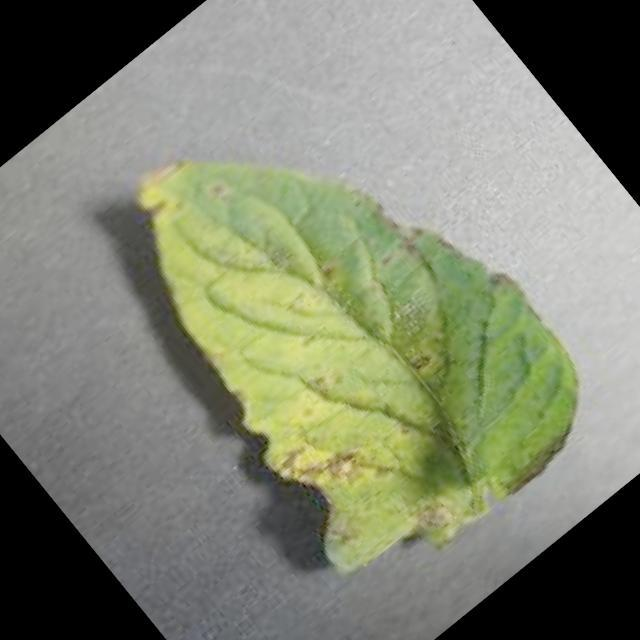Tomato bacterial spot leaf: (53, 19, 632, 624)
